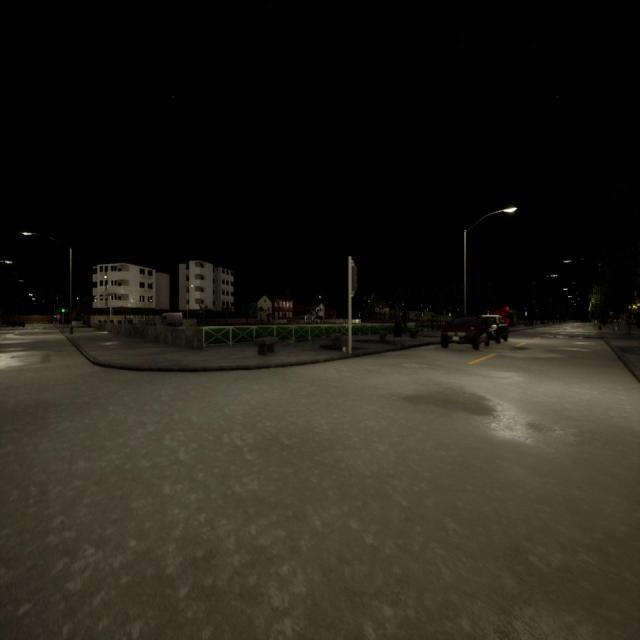Traffic_Signs: (56, 315, 60, 319)
Vehicle: (440, 314, 489, 351), (480, 314, 508, 344), (160, 313, 182, 321), (12, 318, 25, 328)
traffic_light: (351, 265, 358, 291), (61, 304, 65, 314), (54, 313, 56, 319)
